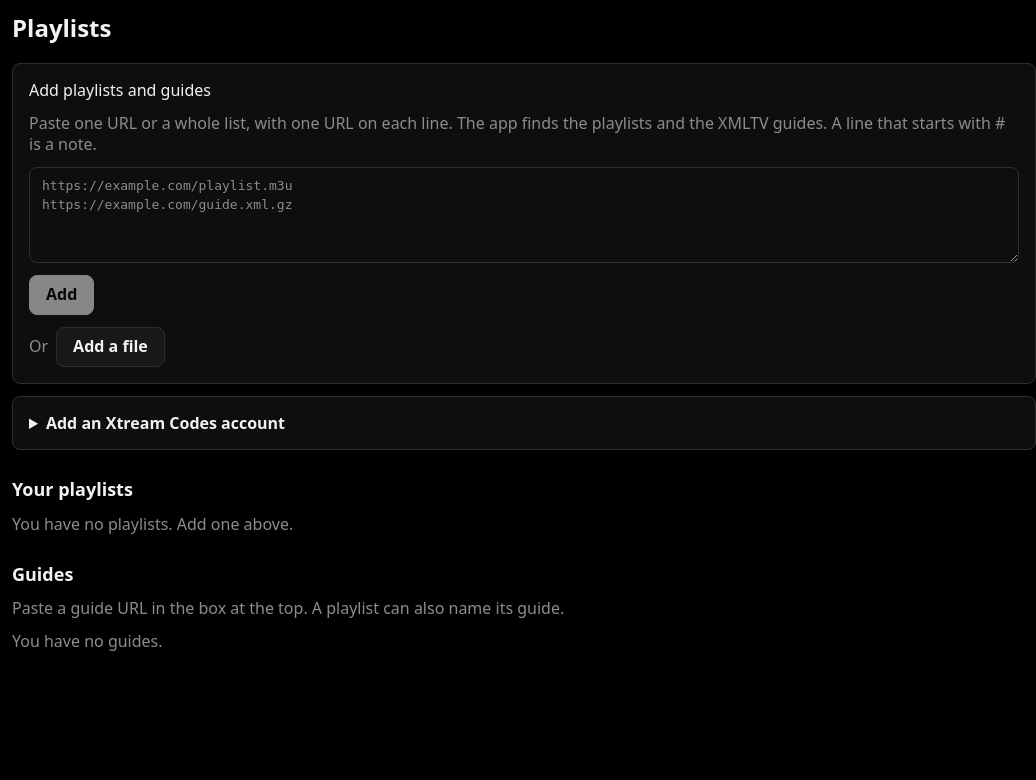
Test: adds a playlist from a URL and shows its channel count
Expected: the text "You have no playlists. Add one above." is shown, [12,513,293,535]
Replace the text in the text box labelled "Add playlists and guides" with "https://a.example/uk.m3u" at (524, 215), box [29,167,1019,263]
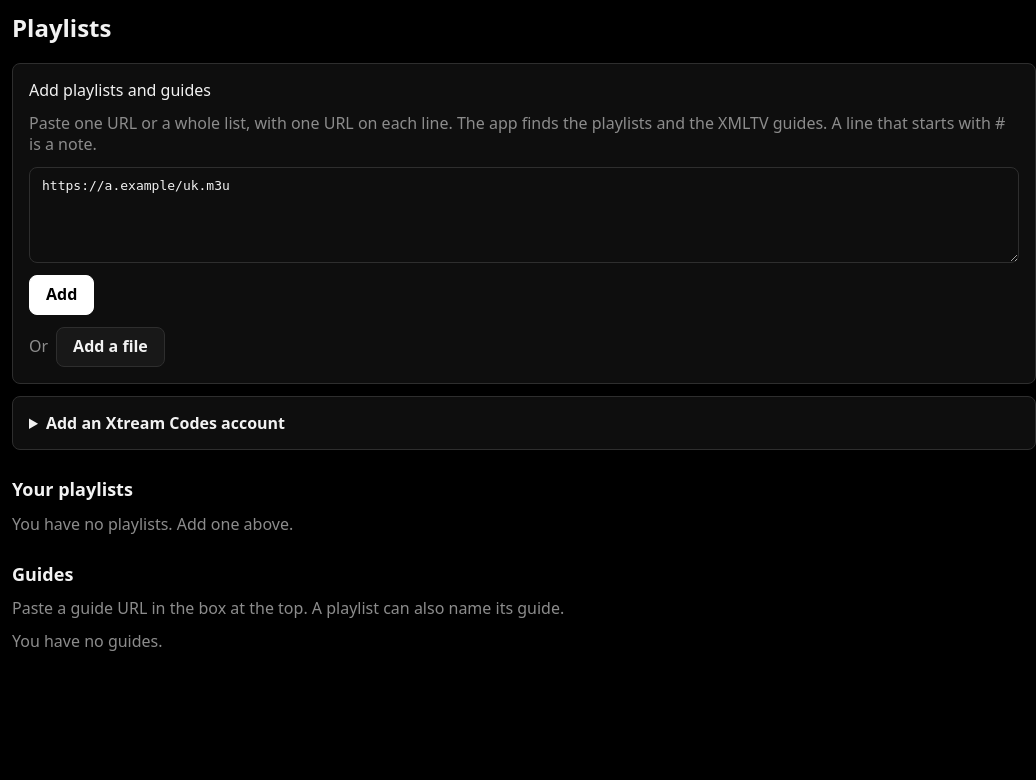
Click the button "Add" at (62, 295), box [29,275,94,315]
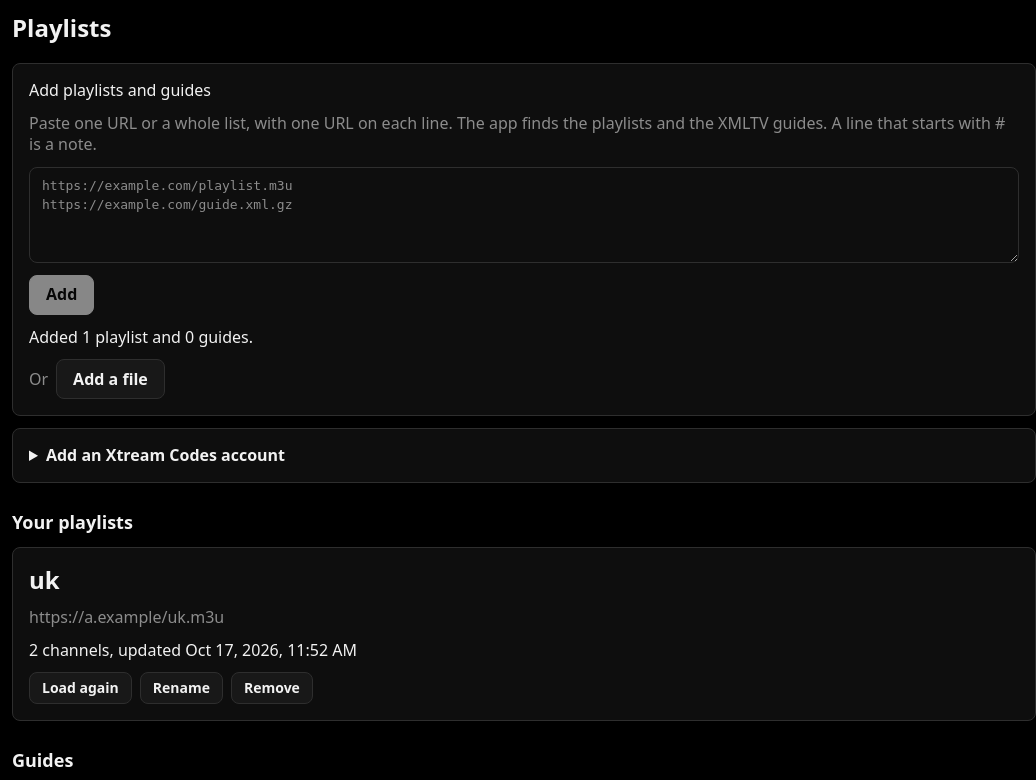
Expected: the text "2 channels, updated Oct 17, 2026, 11:52 AM" is shown, [29,638,357,660]
Expected: the message reads "Added 1 playlist and 0 guides.", [29,326,253,348]
